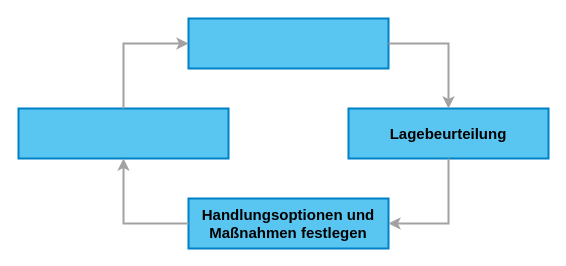
This 566x266 diagram has some shape labels left out. The shapes that lost their labels are listed below. From the top down, each one's centre as x and y in pixels, then its label:
the point at 288,43: Lagefeststellung
the point at 123,133: Durchführung und Kontrolle
